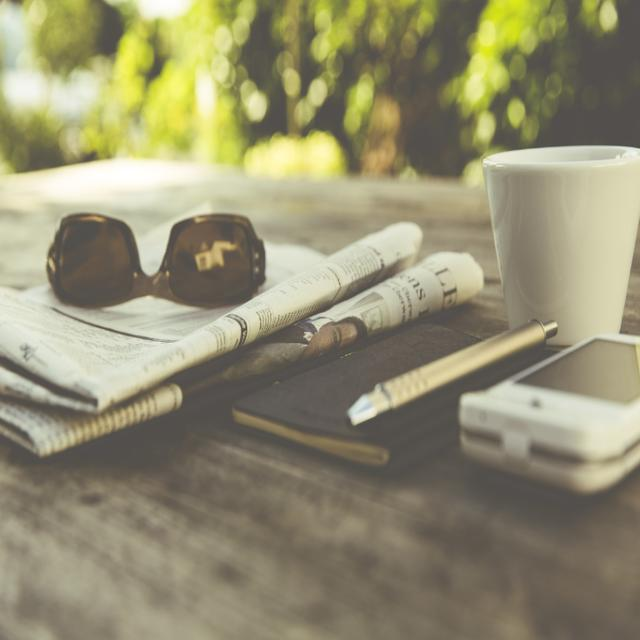Mobile phone: (456, 330, 640, 496)
